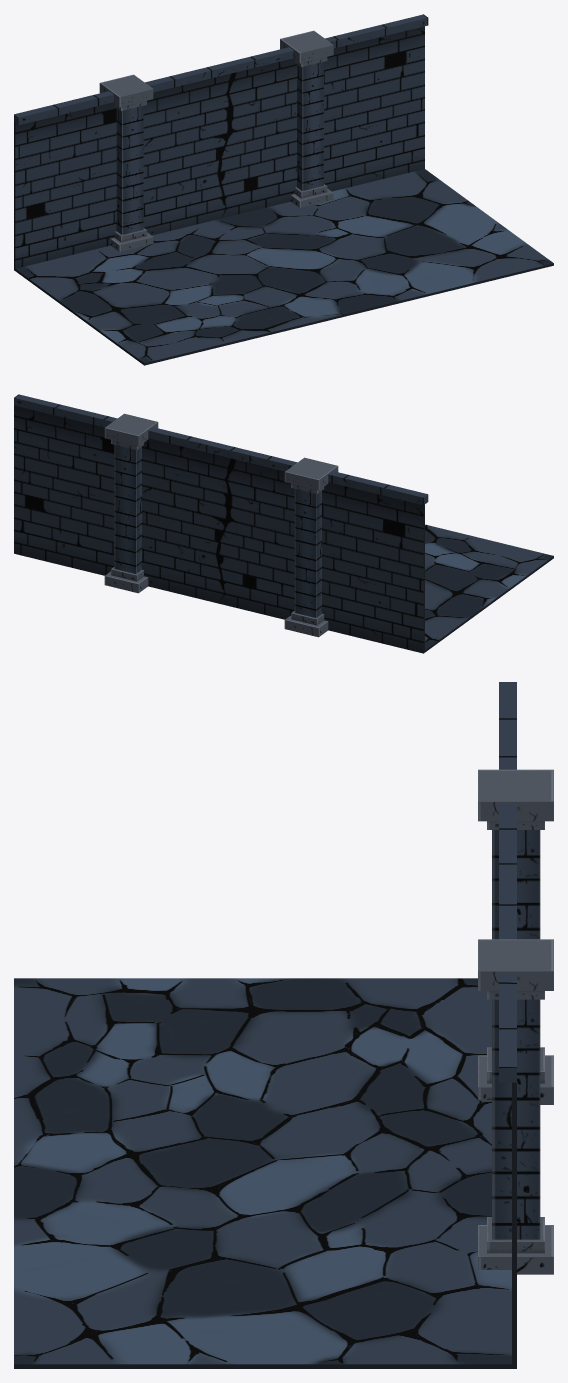
The model's file is Battle_Scene_3_Zaffril.FBX.
3 renders of one model, top to bottom at view 1: azimuth 30°, elevation 25°; view 2: azimuth 150°, elevation 25°; view 3: azimuth 270°, elevation 25°, orthographic. The views are drawn at different scales.
Parts seen in each view (by area): view 1: Wall, Floor, Pillar 1, Pillar 2; view 2: Wall, Floor, Pillar 1, Pillar 2; view 3: Floor, Pillar 2, Pillar 1, Wall.
Boxes of the visible parts, box(x1,y1,x2,y2) form: Wall: box(14, 14, 428, 270); Floor: box(15, 169, 553, 365); Pillar 1: box(99, 74, 153, 251); Pillar 2: box(280, 30, 333, 207); Wall: box(14, 394, 428, 653); Floor: box(425, 524, 553, 652); Pillar 1: box(284, 457, 338, 637); Pillar 2: box(104, 413, 158, 593); Floor: box(14, 978, 511, 1368); Pillar 2: box(478, 939, 553, 1274); Pillar 1: box(478, 769, 553, 1104); Wall: box(499, 682, 516, 1368).
Bounding box in the file's own units: 236 × 86.47 × 140.
